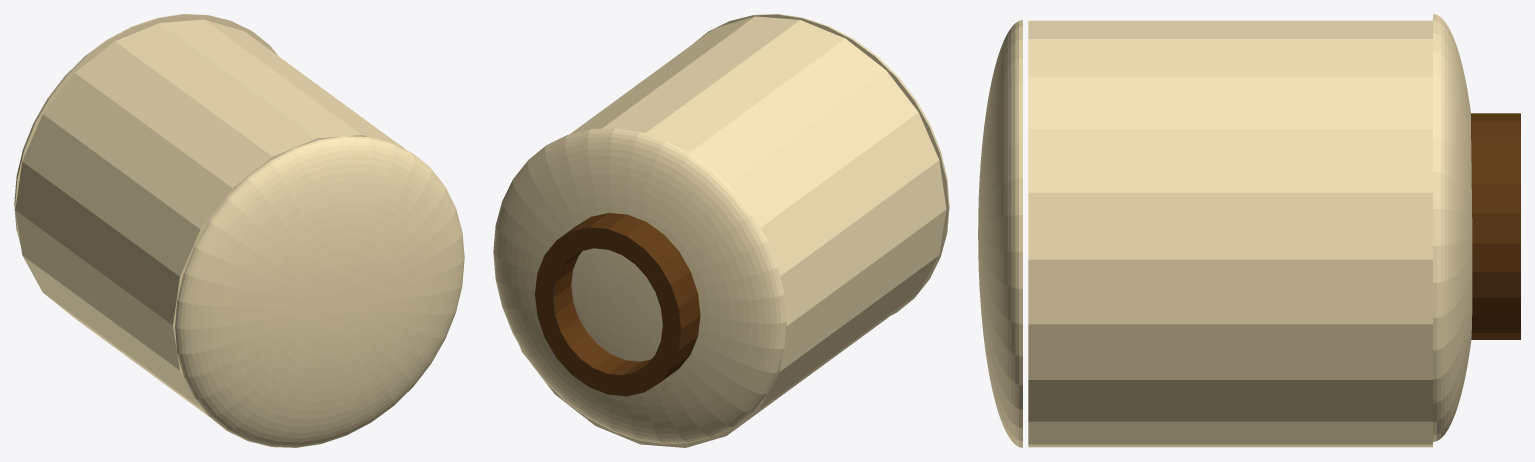
The model's file is tinker.obj.
3 renders of one model, left to right at view 1: azimuth 30°, elevation 25°; view 2: azimuth 150°, elevation 25°; view 3: azimuth 270°, elevation 25°, orthographic. The views are drawn at different scales.
Visible parts, largest first — view 1: group_0_16311991; view 2: group_0_16311991, group_0_6306067; view 3: group_0_16311991, group_0_6306067.
Part boxes in pixels (box(x1,y1,x2,y2)): group_0_16311991: box(14, 14, 464, 447); group_0_16311991: box(493, 14, 949, 447); group_0_6306067: box(535, 213, 700, 396); group_0_16311991: box(978, 14, 1472, 447); group_0_6306067: box(1471, 113, 1520, 339).
Size of the model in its own units: 36.25 by 37 by 46.
